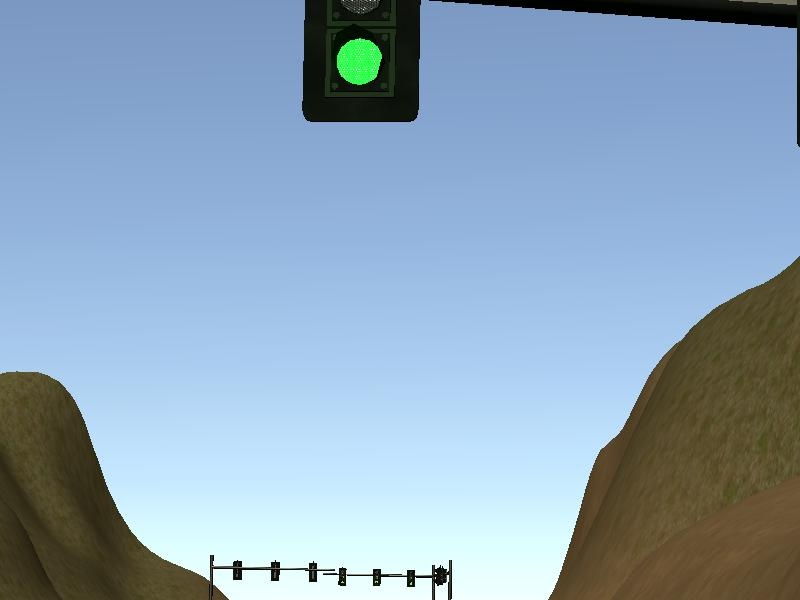traffic_light_green: (1, 1, 800, 125)
